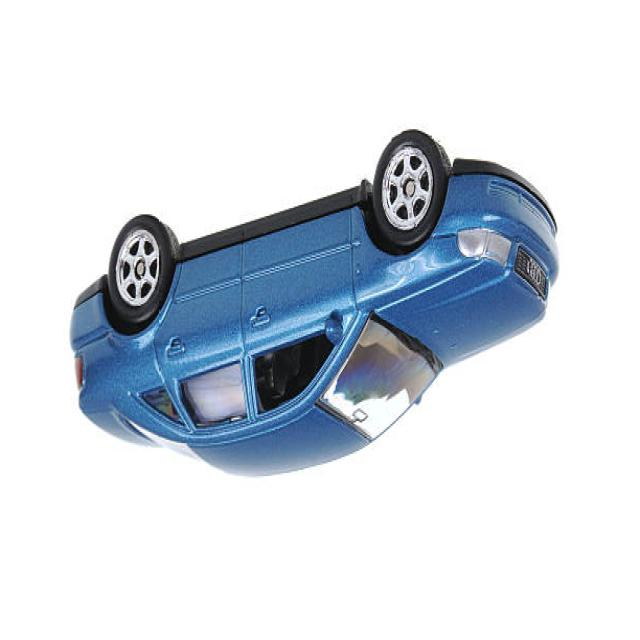Car: (70, 129, 561, 481)
